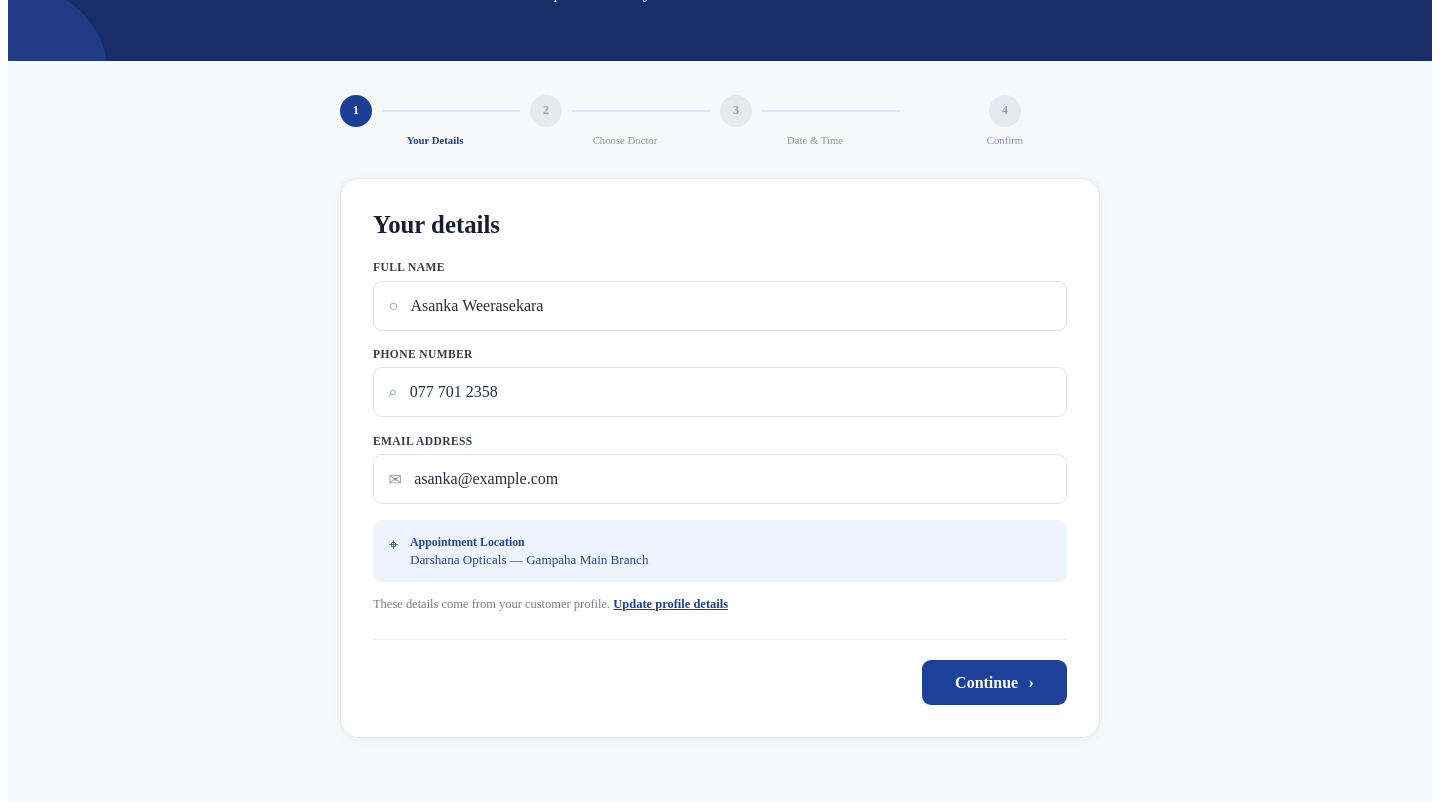
Test case: AppointmentBookingPage › does not invent arbitrary time slots
(page scrolled)
Expected: the field showing "Asanka Weerasekara" is shown, [408,296,1052,316]
What coordinates should you click on to do the following:
click the button "Continue ›"
I would click on:
 (994, 683)
Its box is [922,660,1067,705].
(page scrolled)
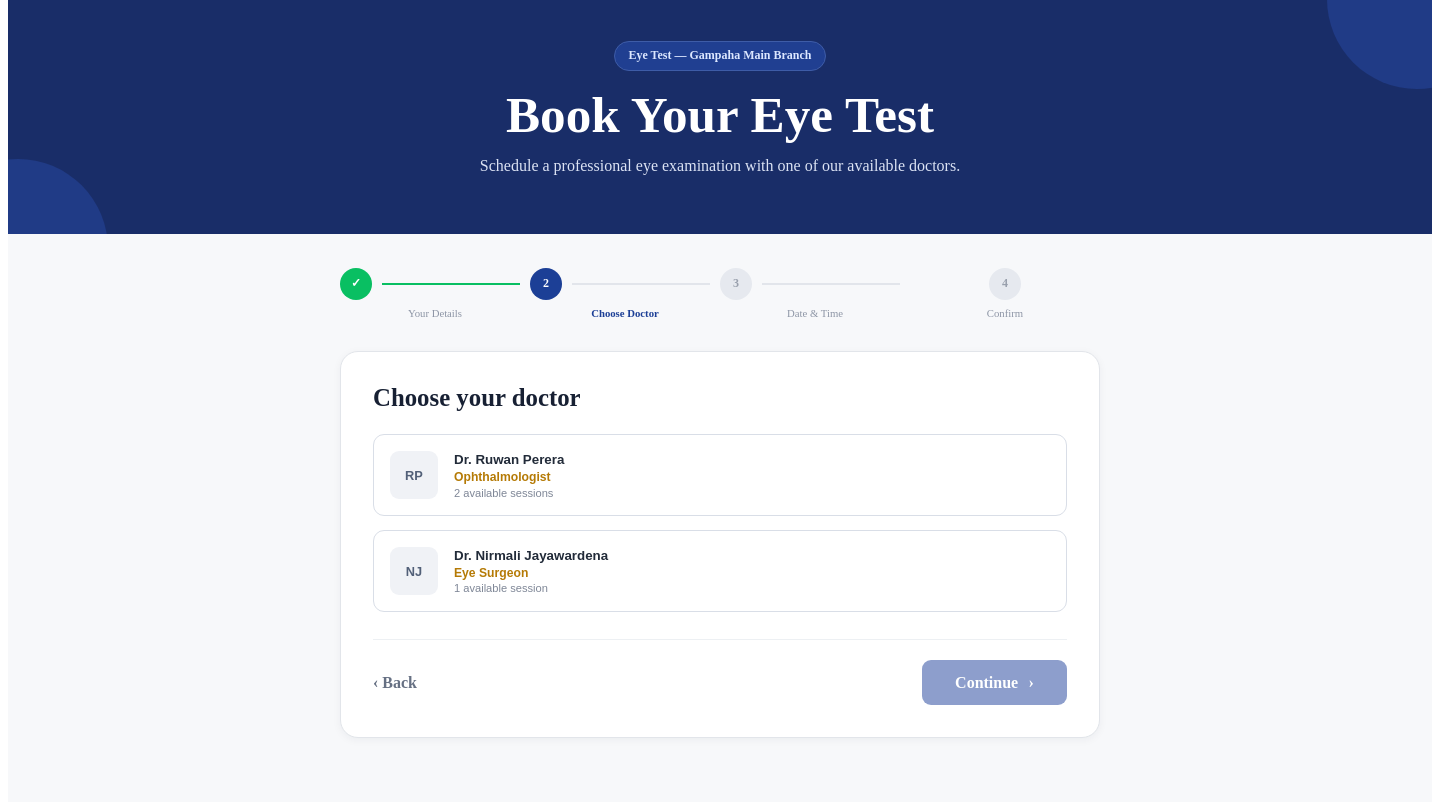
What coordinates should you click on to do the following:
click the button "RP Dr. Ruwan Perera Ophthalmologist 2 available sessions"
I would click on:
 (414, 475)
Its box is [373,434,1067,516].
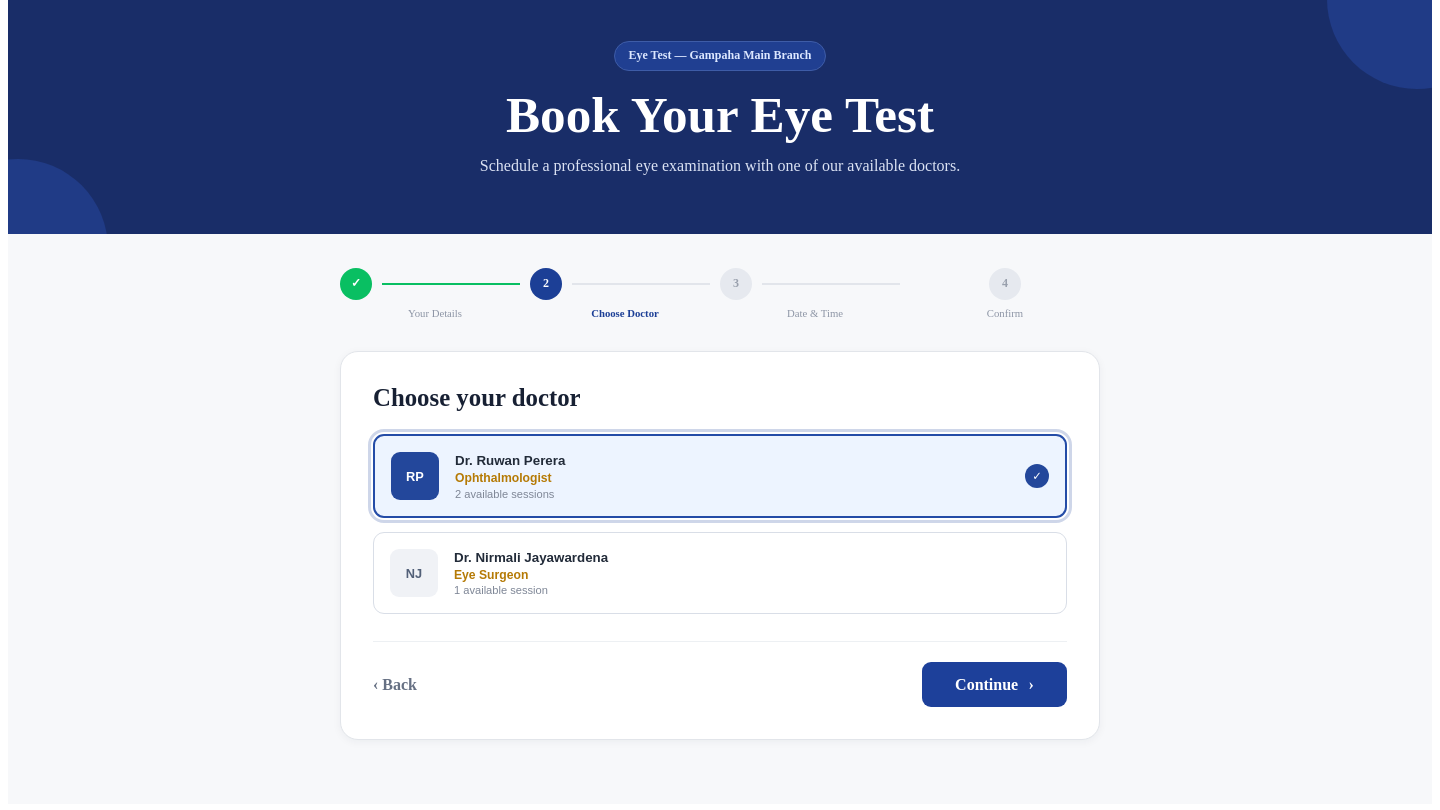
What coordinates should you click on to do the following:
click the button "Continue ›"
I would click on:
 (994, 685)
Its box is [922,662,1067,707].
(page scrolled)
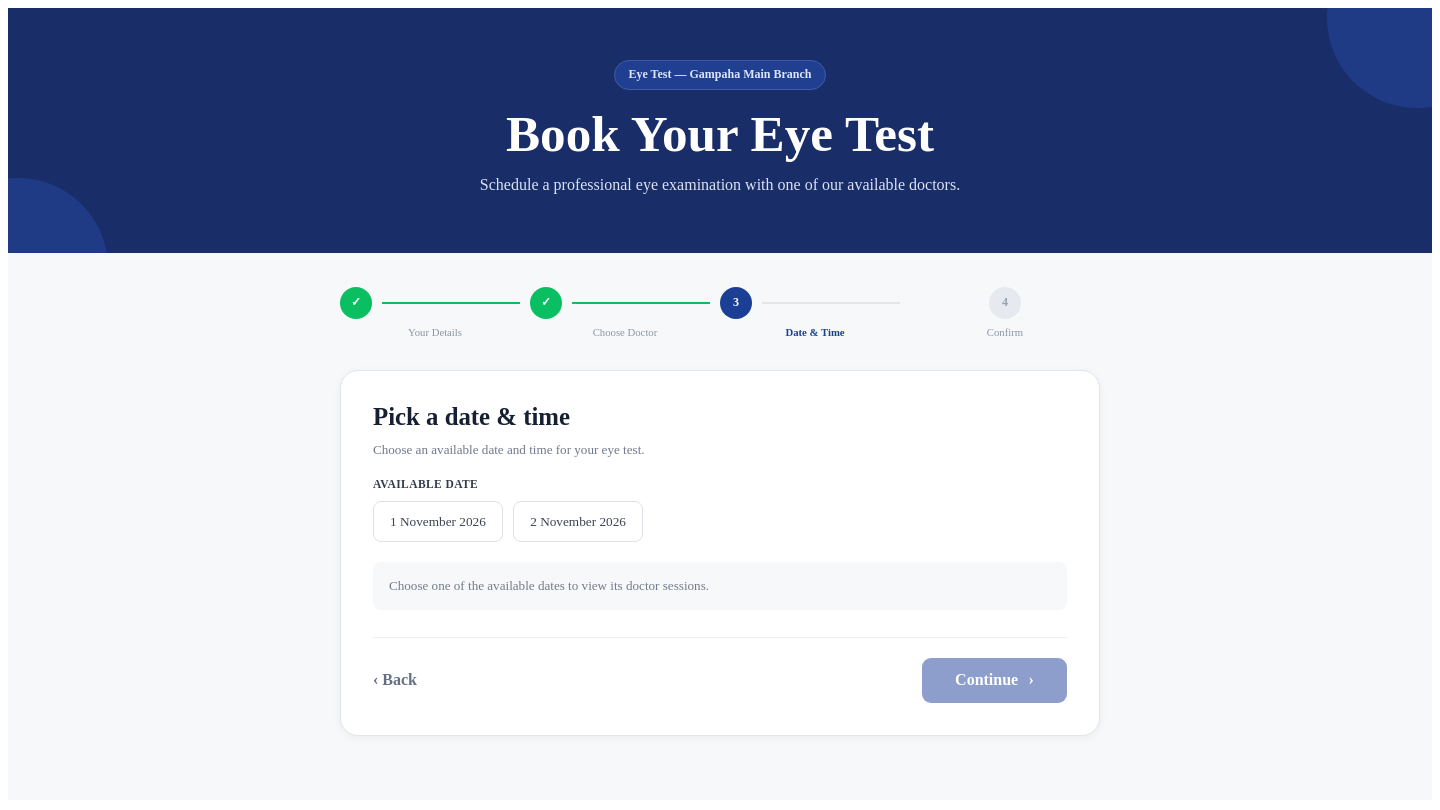
What coordinates should you click on to do the following:
click the button "1 November 2026"
I would click on:
 (438, 522)
Its box is [373,502,503,542].
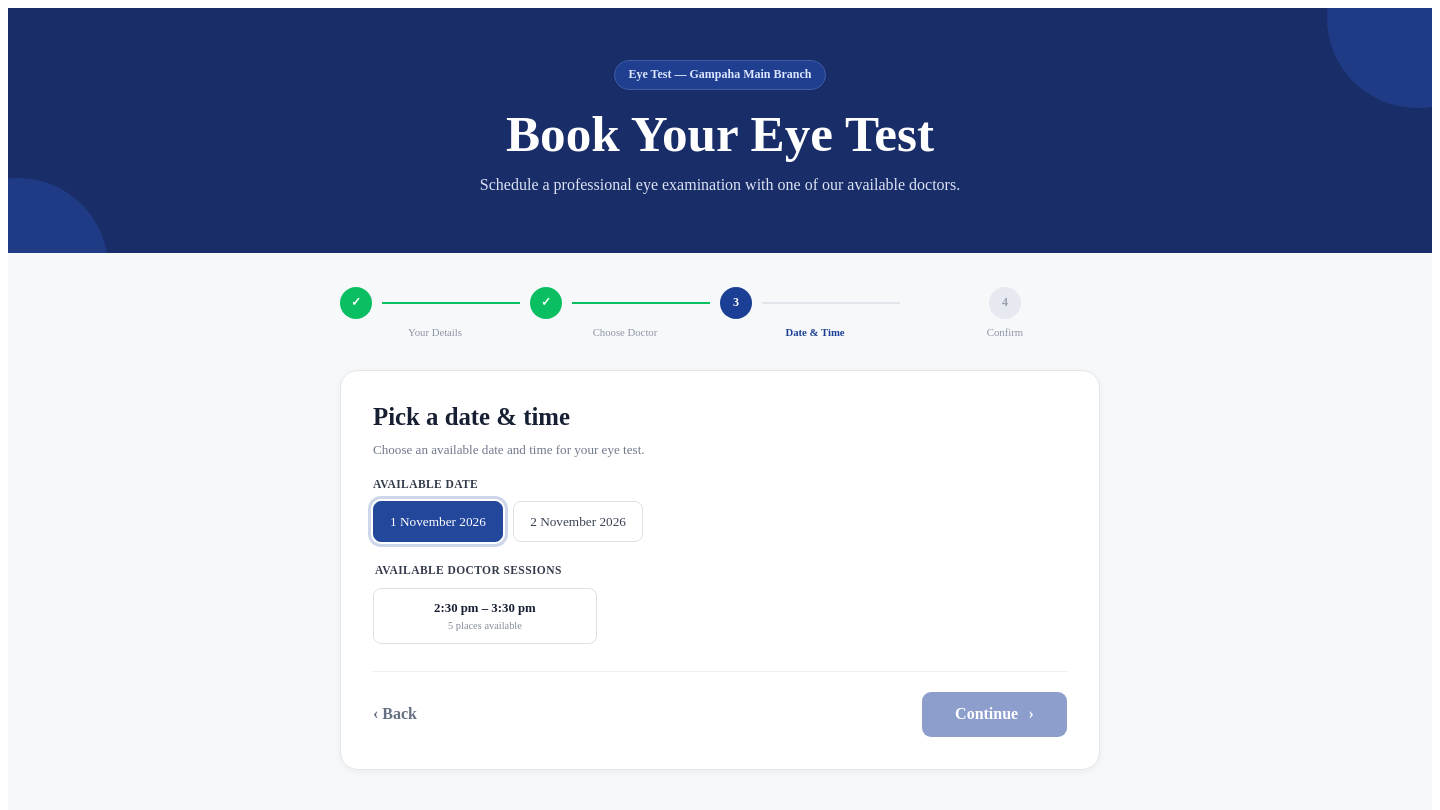
Expected: the radio button labelled "2:30 pm – 3:30 pm 5 places available" is shown, [373,588,597,644]
